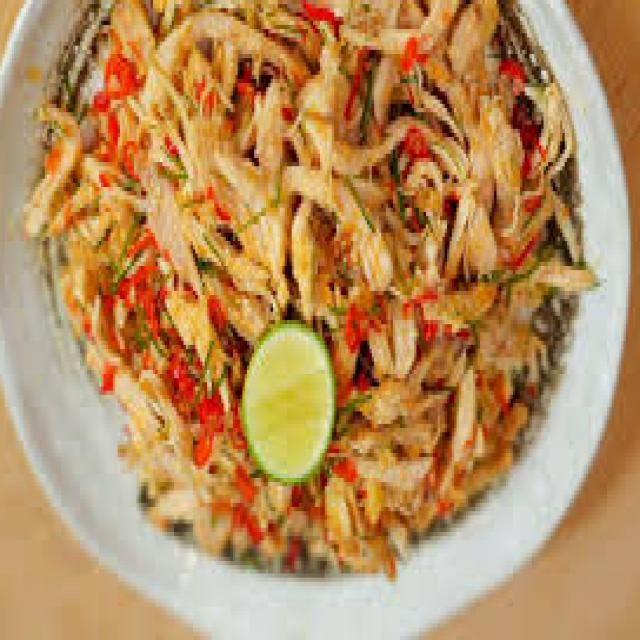ayam_suwir: (40, 0, 583, 595)
